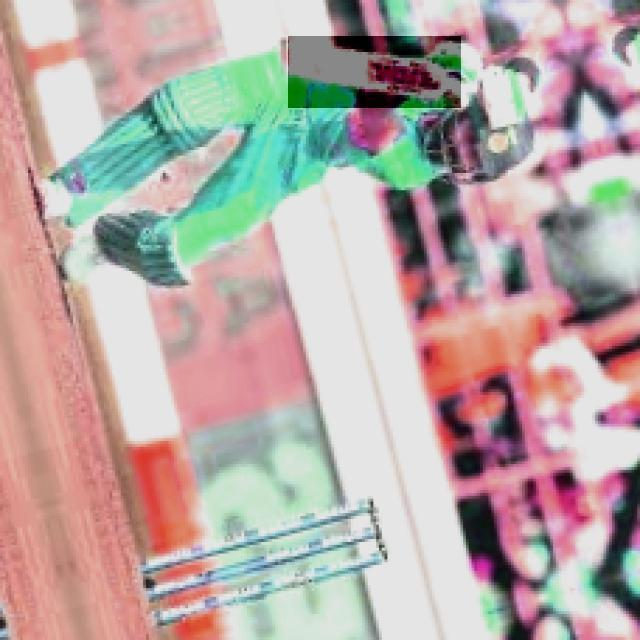bat: (282, 35, 462, 108)
toe: (283, 33, 297, 73)
